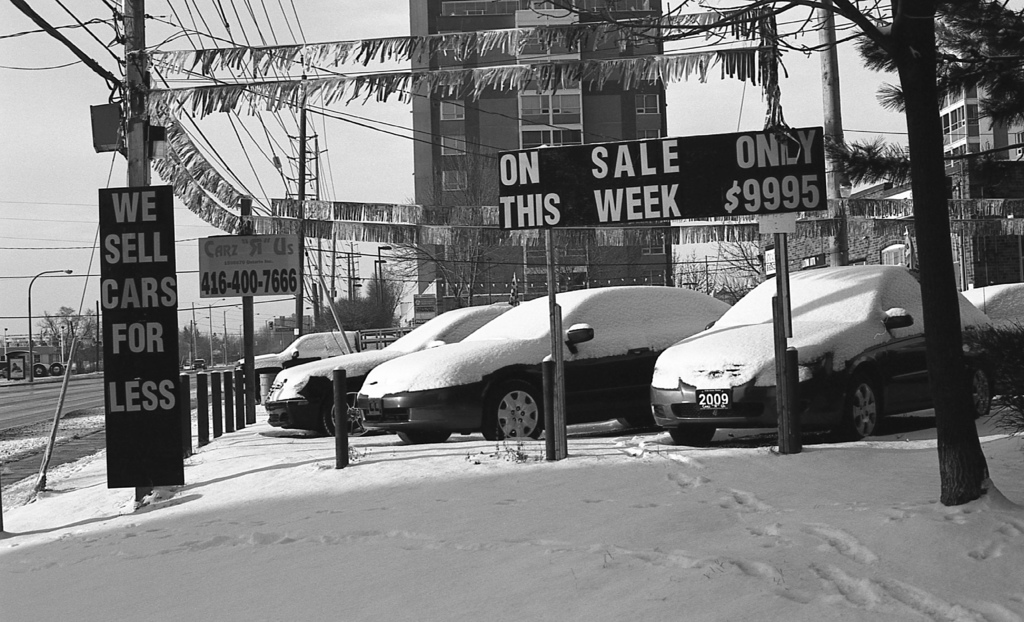Car: (631, 253, 979, 455), (355, 288, 736, 442), (266, 301, 520, 434), (963, 285, 1023, 396)
